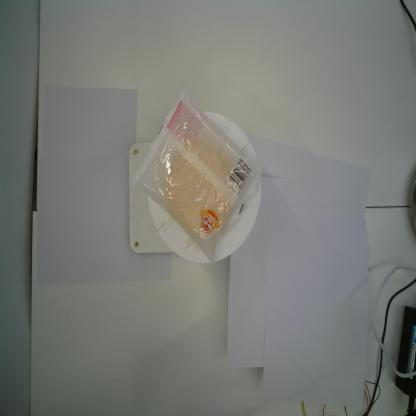Dessert: (128, 87, 266, 266)
